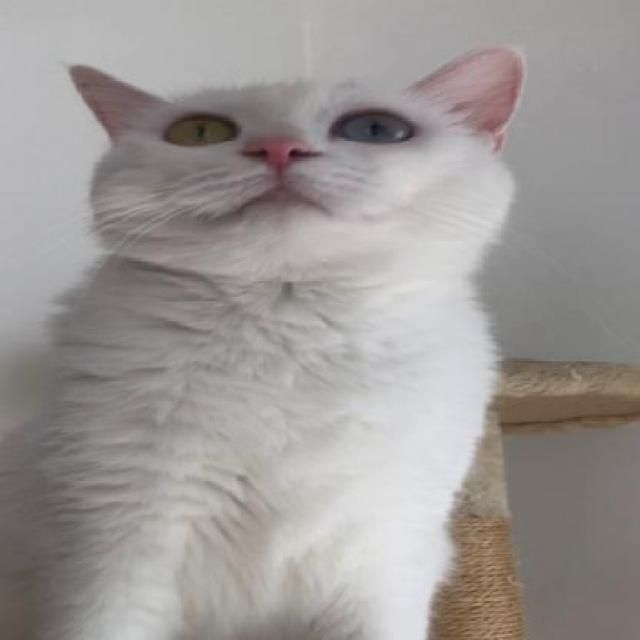cat-face: (46, 53, 534, 278)
